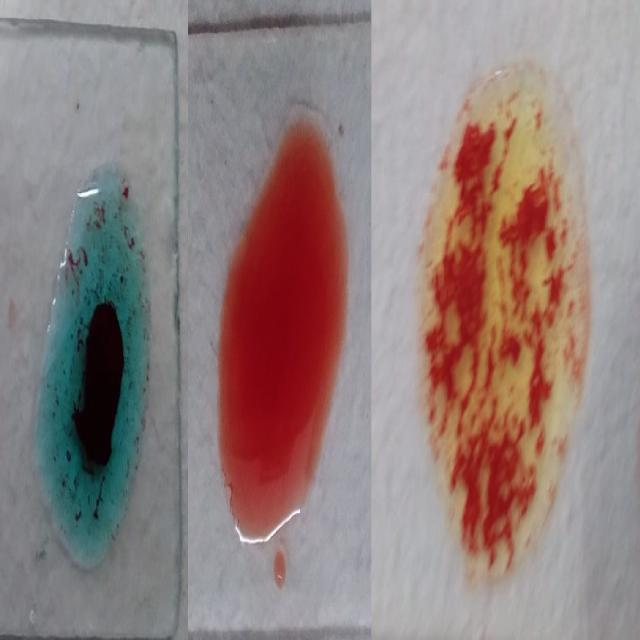A: (40, 184, 149, 566)
B: (426, 89, 584, 559)
